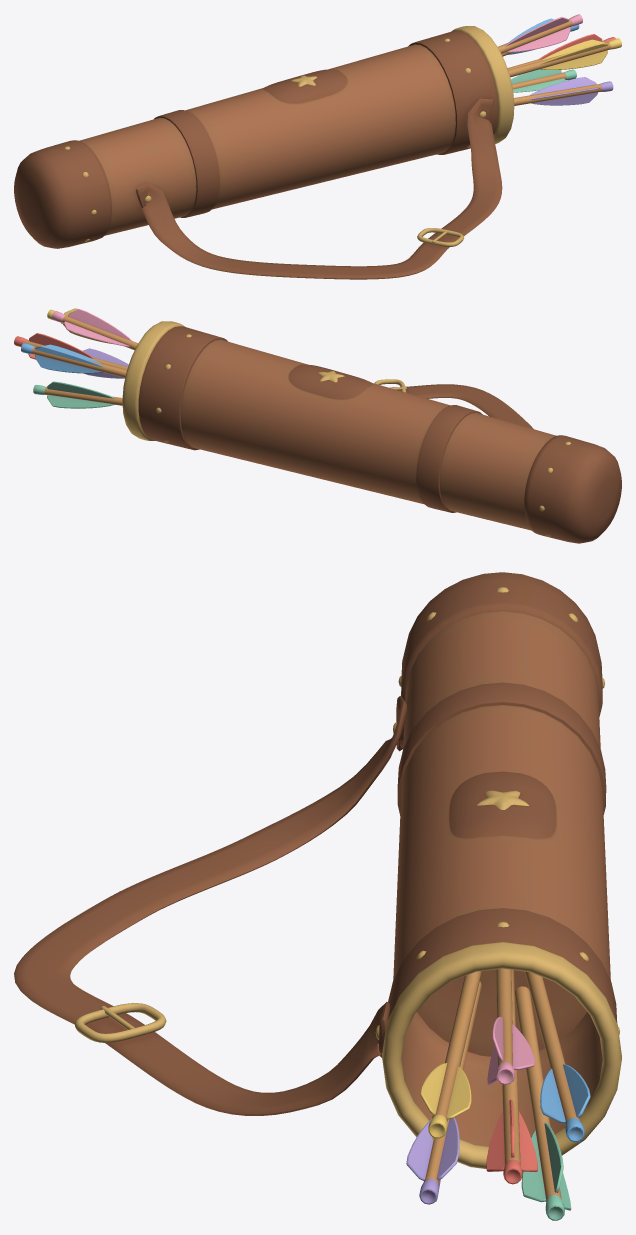
File: quiver.glb
3 renders of one model, top to bottom at view 1: azimuth 30°, elevation 25°; view 2: azimuth 150°, elevation 25°; view 3: azimuth 270°, elevation 25°, orthographic. The views are drawn at different scales.
Visible parts, largest first — view 1: quiver_body; view 2: quiver_body; view 3: quiver_body.
Boxes of the visible parts, left/top/right/bottom form: quiver_body: left=14, top=14, right=621, bottom=279; quiver_body: left=14, top=308, right=621, bottom=543; quiver_body: left=14, top=572, right=621, bottom=1220.
Bounding box in the file's own units: 0.7125 × 0.1281 × 0.3244.
Materials: 1 (1 with a texture image).
